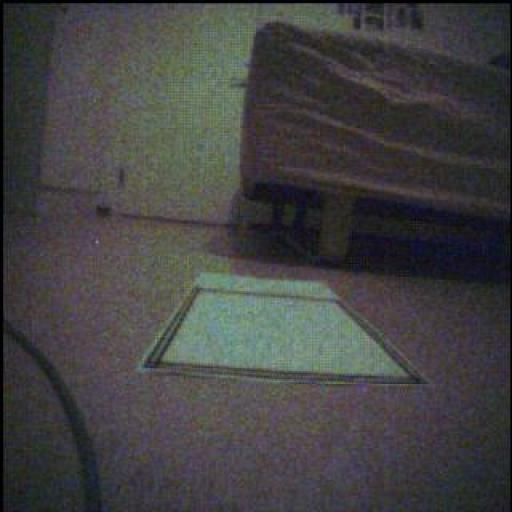pad: (140, 275, 425, 385)
